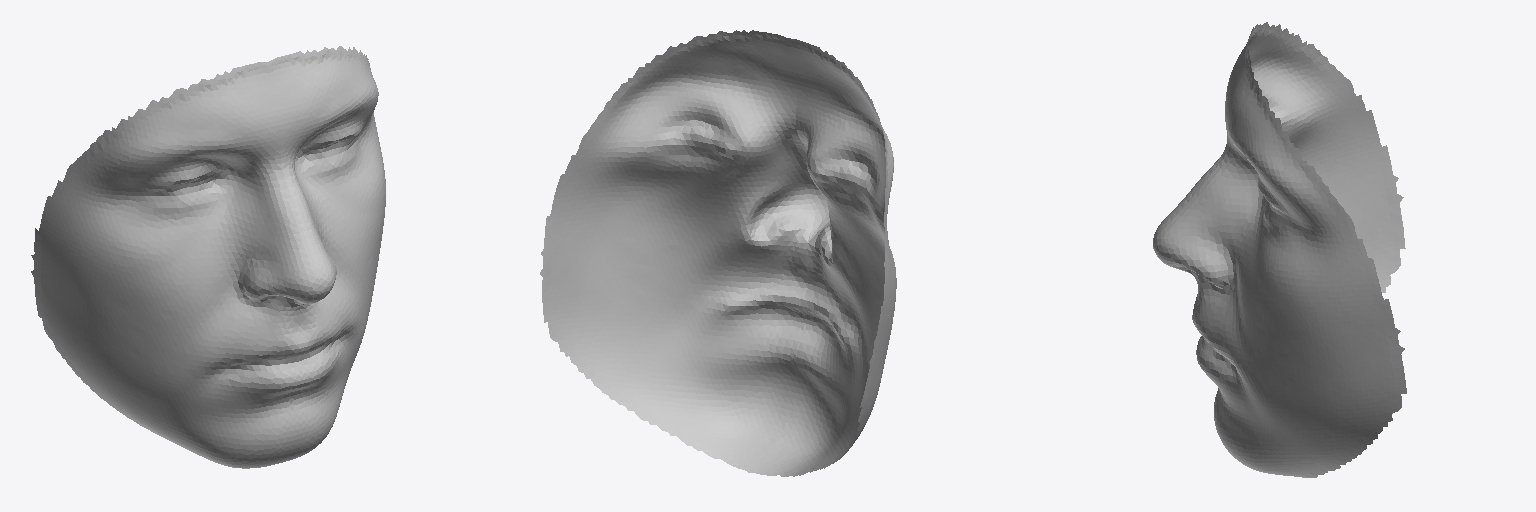
File: SIMPOP_27.obj
The picture shows the model from 3 angles: view 1: azimuth 30°, elevation 25°; view 2: azimuth 150°, elevation 25°; view 3: azimuth 270°, elevation 25°; orthographic projection.
Visible parts, largest first — view 1: SIMPOP_27; view 2: SIMPOP_27; view 3: SIMPOP_27.
Part boxes in pixels (bbox=[...]): SIMPOP_27: bbox=[31, 46, 385, 468]; SIMPOP_27: bbox=[540, 30, 896, 476]; SIMPOP_27: bbox=[1153, 22, 1406, 477].
Size of the model in its own units: 154 by 183 by 101.